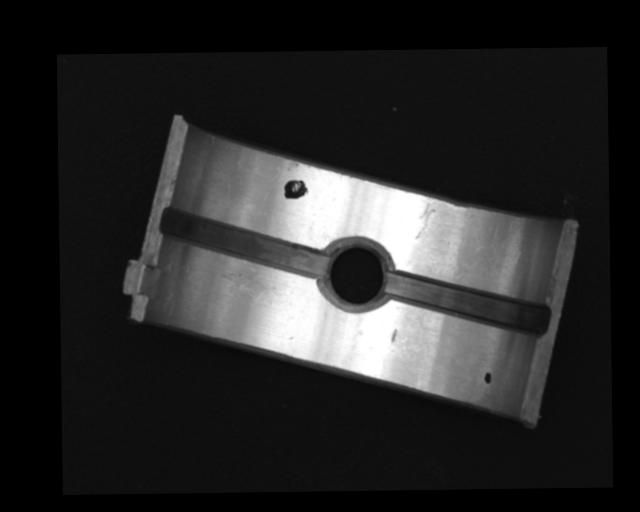blot: (283, 180, 309, 200), (483, 371, 493, 385)
bruise: (390, 327, 397, 343)
gap: (161, 207, 326, 281), (386, 271, 549, 337)
hole: (319, 240, 394, 310)
nick: (413, 197, 436, 240)
scratch: (214, 265, 279, 304)
